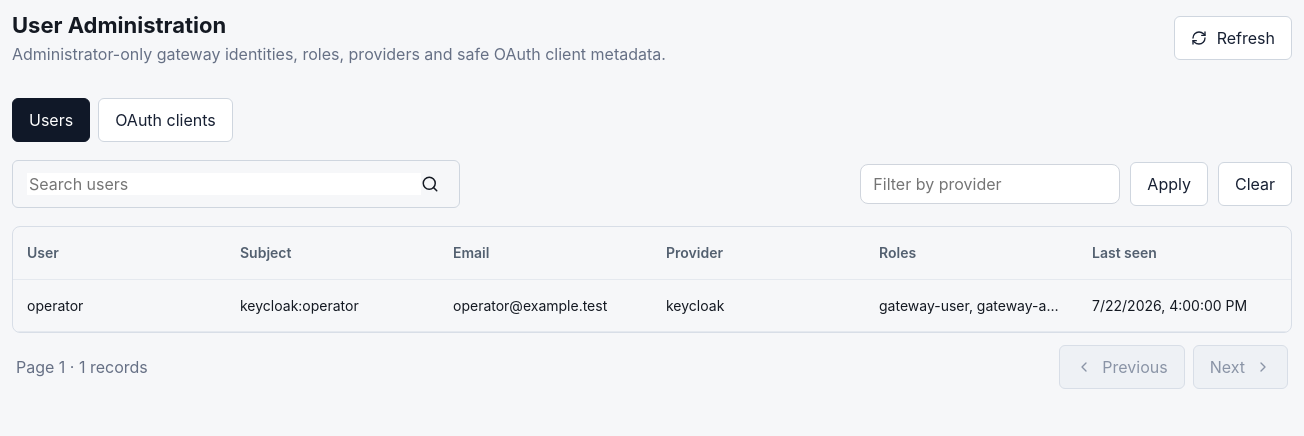
Test: renders safe administration metadata and provider filtering
This screenshot has width=1304, height=436.
expect the text "operator@example.test" is shown: met, box [439, 279, 652, 331]
In the field named "Filter Users by provider": (990, 184) [860, 164, 1120, 204], type "keycloak"
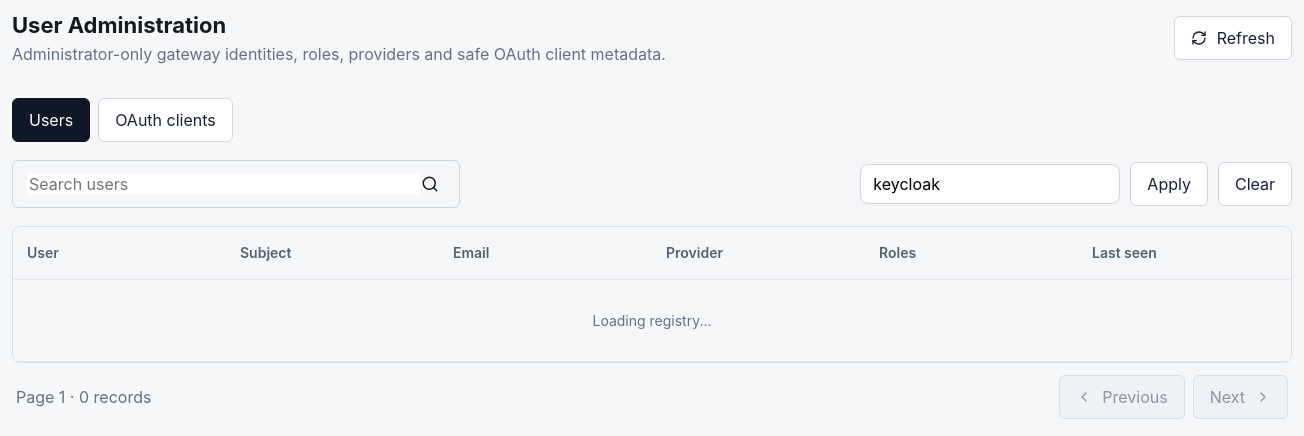
Click the tab "OAuth clients": (166, 120) [98, 98, 233, 142]
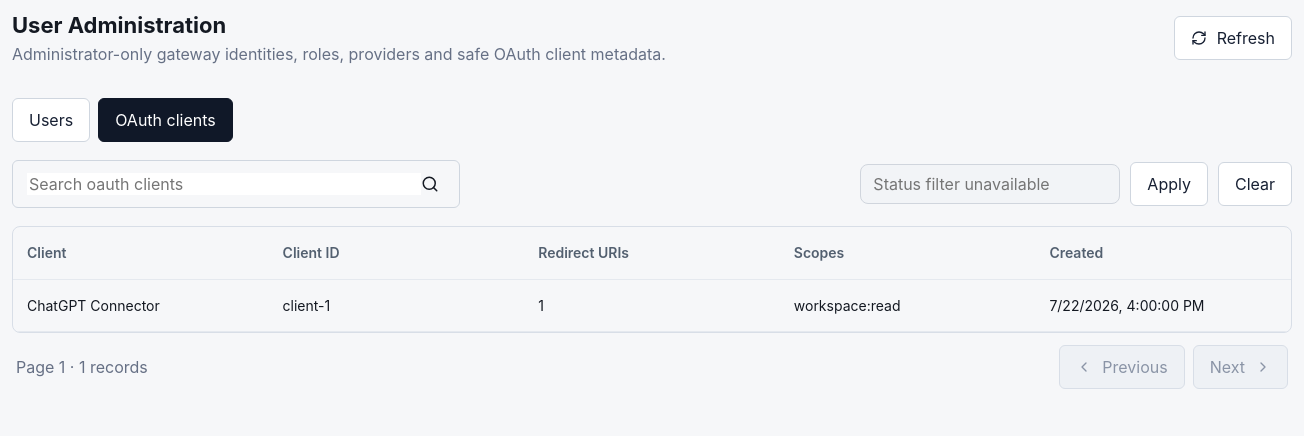
expect the text "ChatGPT Connector" is shown: met, box [13, 279, 269, 331]
expect the text "workspace:read" is shown: met, box [780, 279, 1035, 331]
